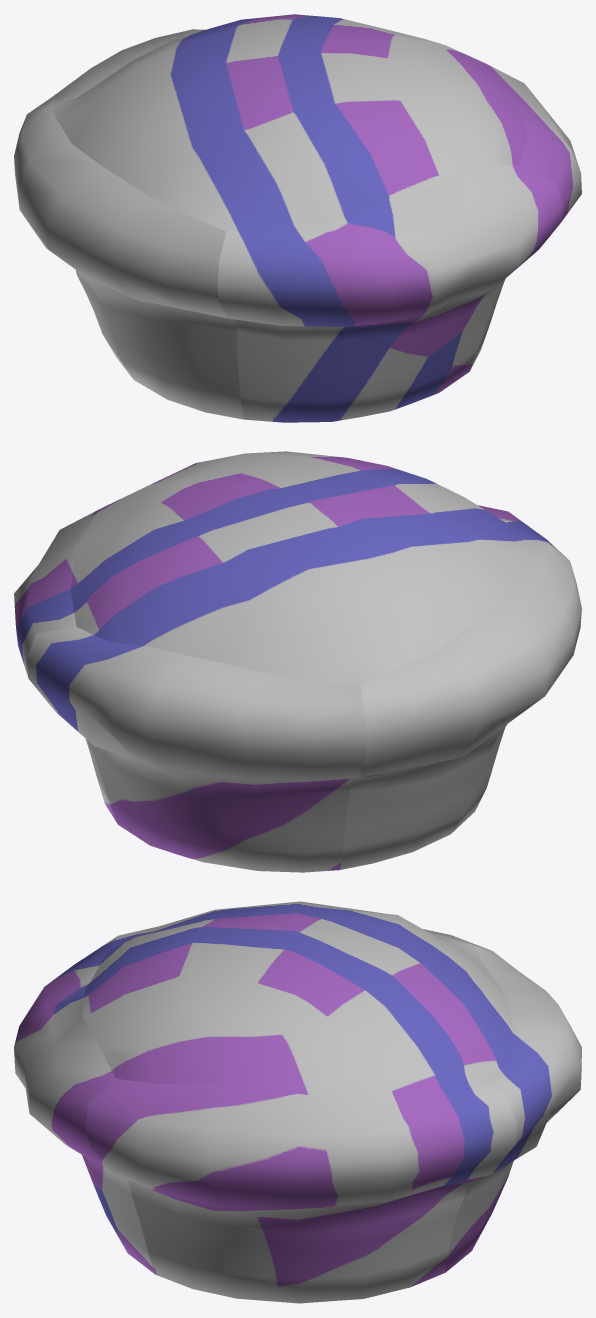
The model's file is Pastel.FBX.
3 renders of one model, top to bottom at view 1: azimuth 30°, elevation 25°; view 2: azimuth 150°, elevation 25°; view 3: azimuth 270°, elevation 25°, orthographic. The views are drawn at different scales.
Parts seen in each view (by area): view 1: american pie; view 2: american pie; view 3: american pie.
Part boxes in pixels (x1,y1,x2,y2): american pie: (14, 14, 581, 422); american pie: (14, 451, 581, 872); american pie: (14, 901, 581, 1303).
Size of the model in its own units: 24.86 by 14.22 by 25.51.
